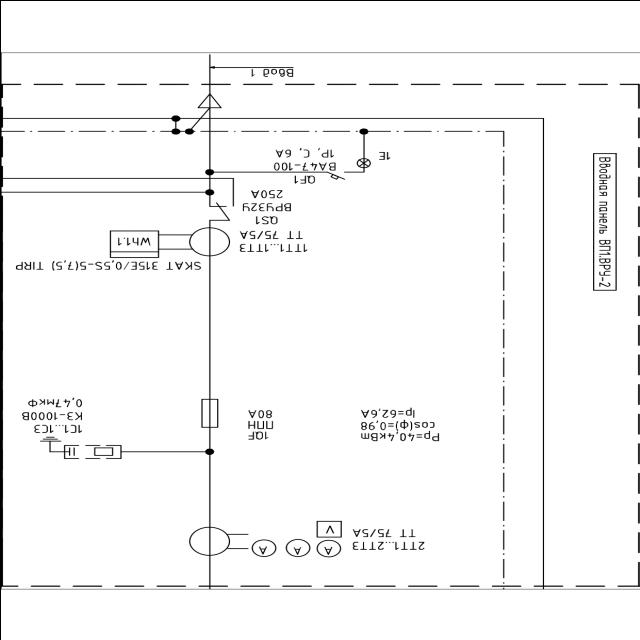-: (13, 257, 202, 274), (270, 146, 338, 172), (240, 188, 292, 212), (348, 525, 425, 539), (235, 227, 309, 241), (594, 238, 612, 286), (245, 408, 275, 429)
FU: (196, 395, 218, 429)
HL: (354, 156, 372, 168)
PA: (312, 538, 342, 557), (249, 538, 279, 556), (282, 538, 312, 556)
PV: (314, 518, 342, 538)
QF: (324, 170, 348, 180)
TT: (187, 522, 249, 556), (187, 225, 230, 258)
WH: (106, 228, 158, 258)
switch: (208, 200, 236, 222)
